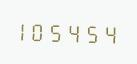five: (86, 20, 102, 45), (52, 19, 68, 43)
four: (69, 20, 85, 44), (103, 21, 119, 45)
one: (17, 18, 33, 42)
zero: (34, 18, 50, 43)
